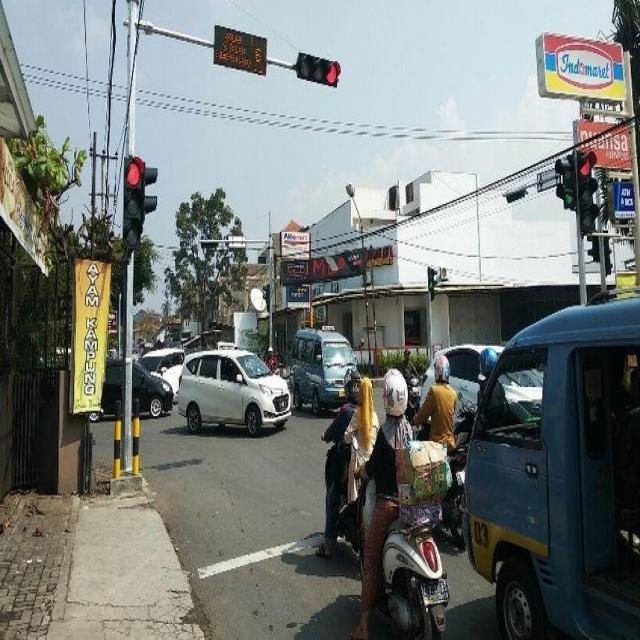red_light: (574, 145, 595, 235), (125, 156, 142, 252), (297, 57, 341, 90)
